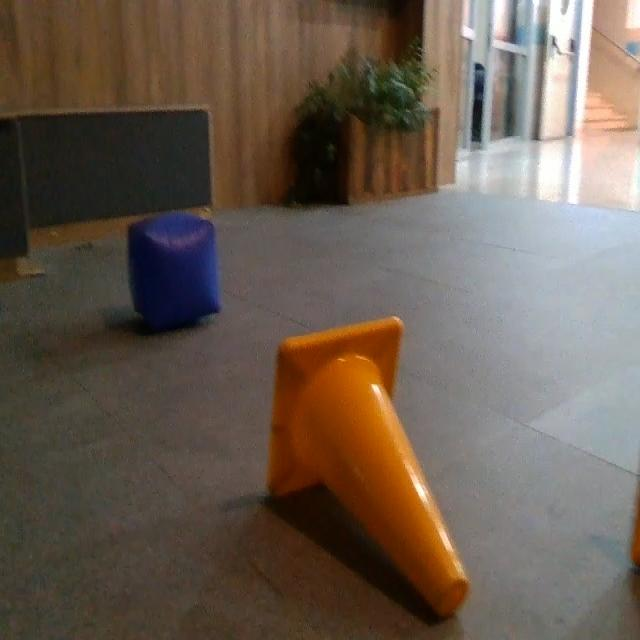cone: (264, 318, 470, 620)
cube: (127, 214, 221, 326)
